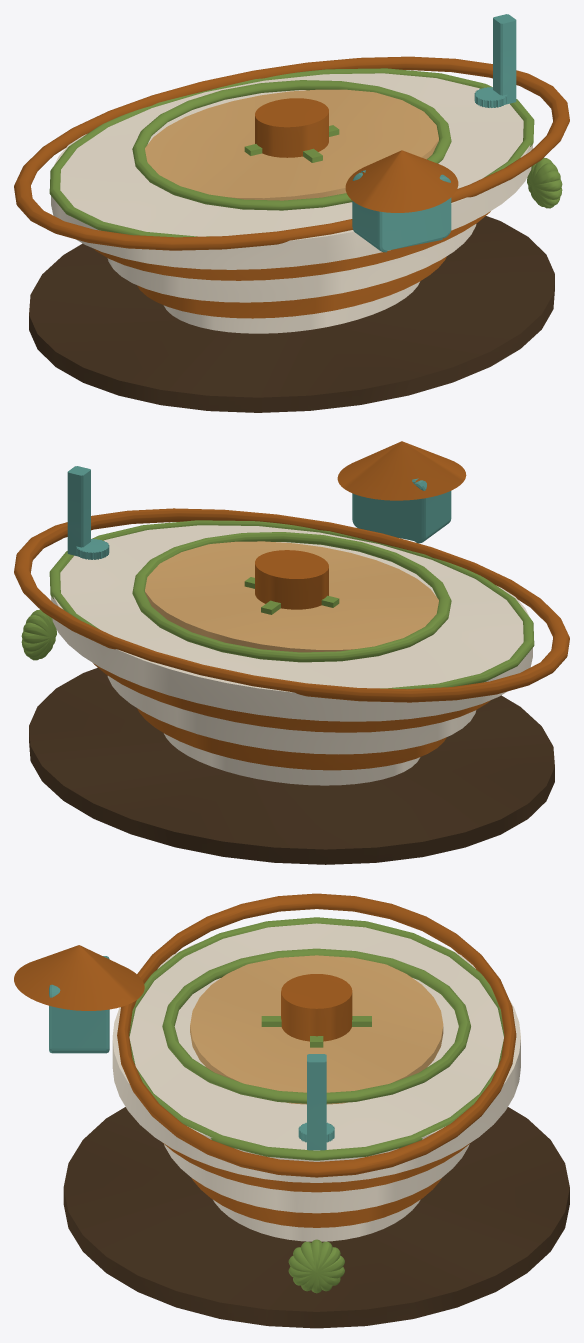
The model's file is 0273_世界古代文明图鉴_古罗马竞技场.glb.
The picture shows the model from 3 angles, top to bottom: view 1: azimuth 30°, elevation 25°; view 2: azimuth 150°, elevation 25°; view 3: azimuth 270°, elevation 25°; orthographic projection. The views are drawn at different scales.
Parts seen in each view (by area): view 1: card_0273; view 2: card_0273; view 3: card_0273.
Part boxes in pixels (box(x1,y1,x2,y2)): card_0273: box(14, 14, 569, 412); card_0273: box(14, 441, 569, 864); card_0273: box(14, 893, 569, 1328).
Bounding box in the file's own units: 2.3 × 1 × 1.94.
